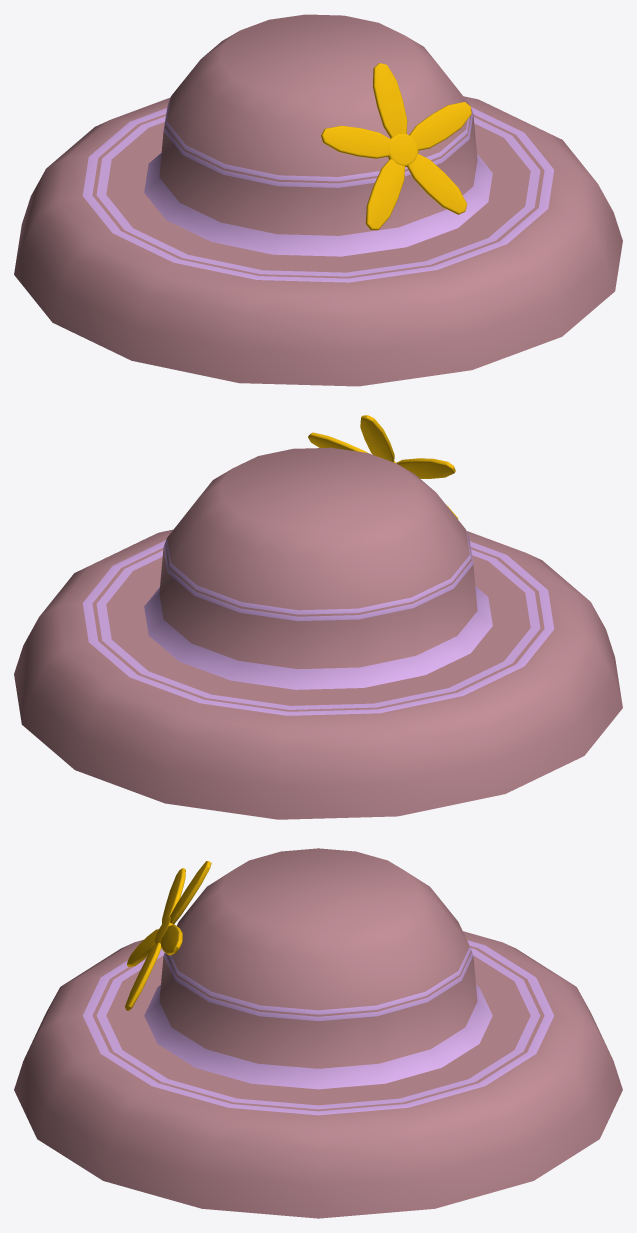
Rendered from Cap_4.fbx.
The picture shows the model from 3 angles, top to bottom: view 1: azimuth 30°, elevation 25°; view 2: azimuth 150°, elevation 25°; view 3: azimuth 270°, elevation 25°; orthographic projection.
Parts seen in each view (by area): view 1: Cap_4; view 2: Cap_4; view 3: Cap_4.
Part boxes in pixels (box(x1,y1,x2,y2)): Cap_4: box(14, 14, 622, 386); Cap_4: box(14, 415, 622, 819); Cap_4: box(14, 848, 622, 1218).
Size of the model in its own units: 0.323 by 0.1356 by 0.323.
